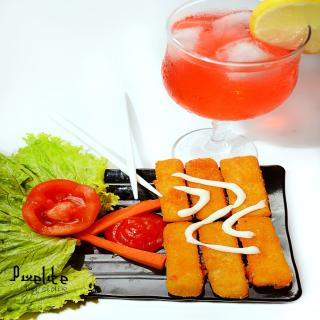tomato: (20, 185, 106, 238), (107, 211, 165, 255)
